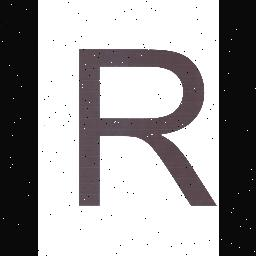r: (68, 43, 218, 213)
